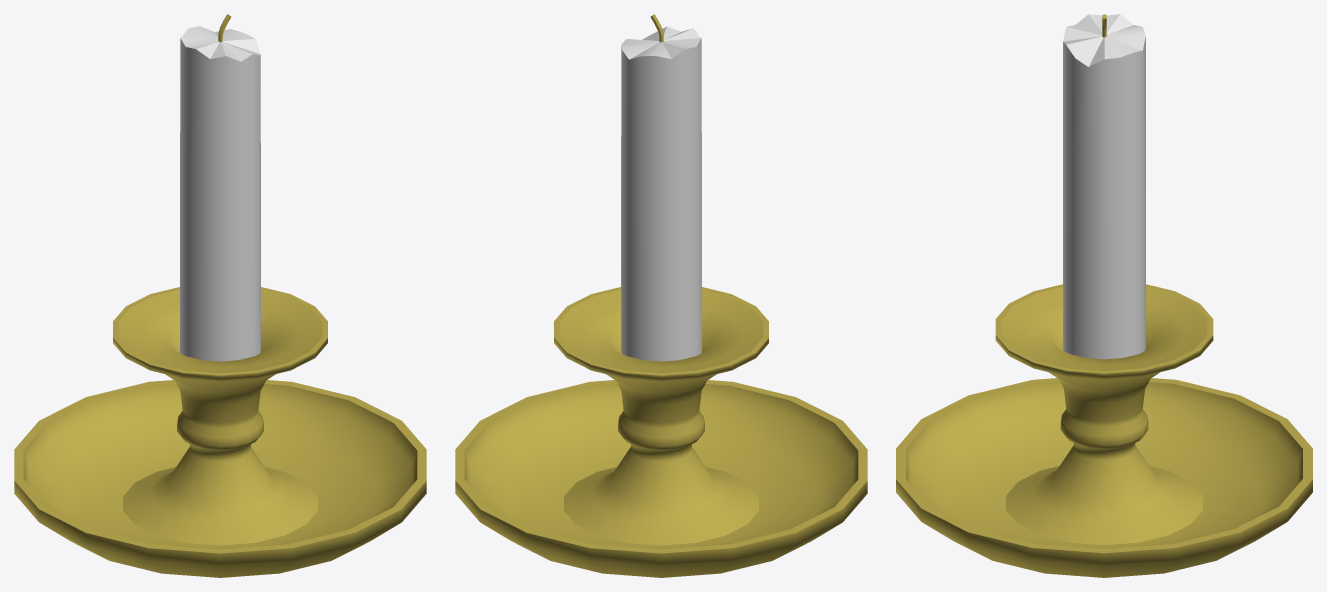
The model's file is Candle.glb.
3 renders of one model, left to right at view 1: azimuth 30°, elevation 25°; view 2: azimuth 150°, elevation 25°; view 3: azimuth 270°, elevation 25°, orthographic.
Parts seen in each view (by area): view 1: pCylinder1, pCylinder2; view 2: pCylinder1, pCylinder2; view 3: pCylinder1, pCylinder2.
Boxes of the visible parts, x1,y1,x2,y2 form: pCylinder1: (14, 287, 426, 577); pCylinder2: (180, 26, 260, 361); pCylinder1: (455, 287, 867, 577); pCylinder2: (621, 26, 701, 361); pCylinder1: (896, 284, 1312, 577); pCylinder2: (1063, 14, 1145, 359).
Bounding box in the file's own units: 0.243 × 0.3149 × 0.2393.
